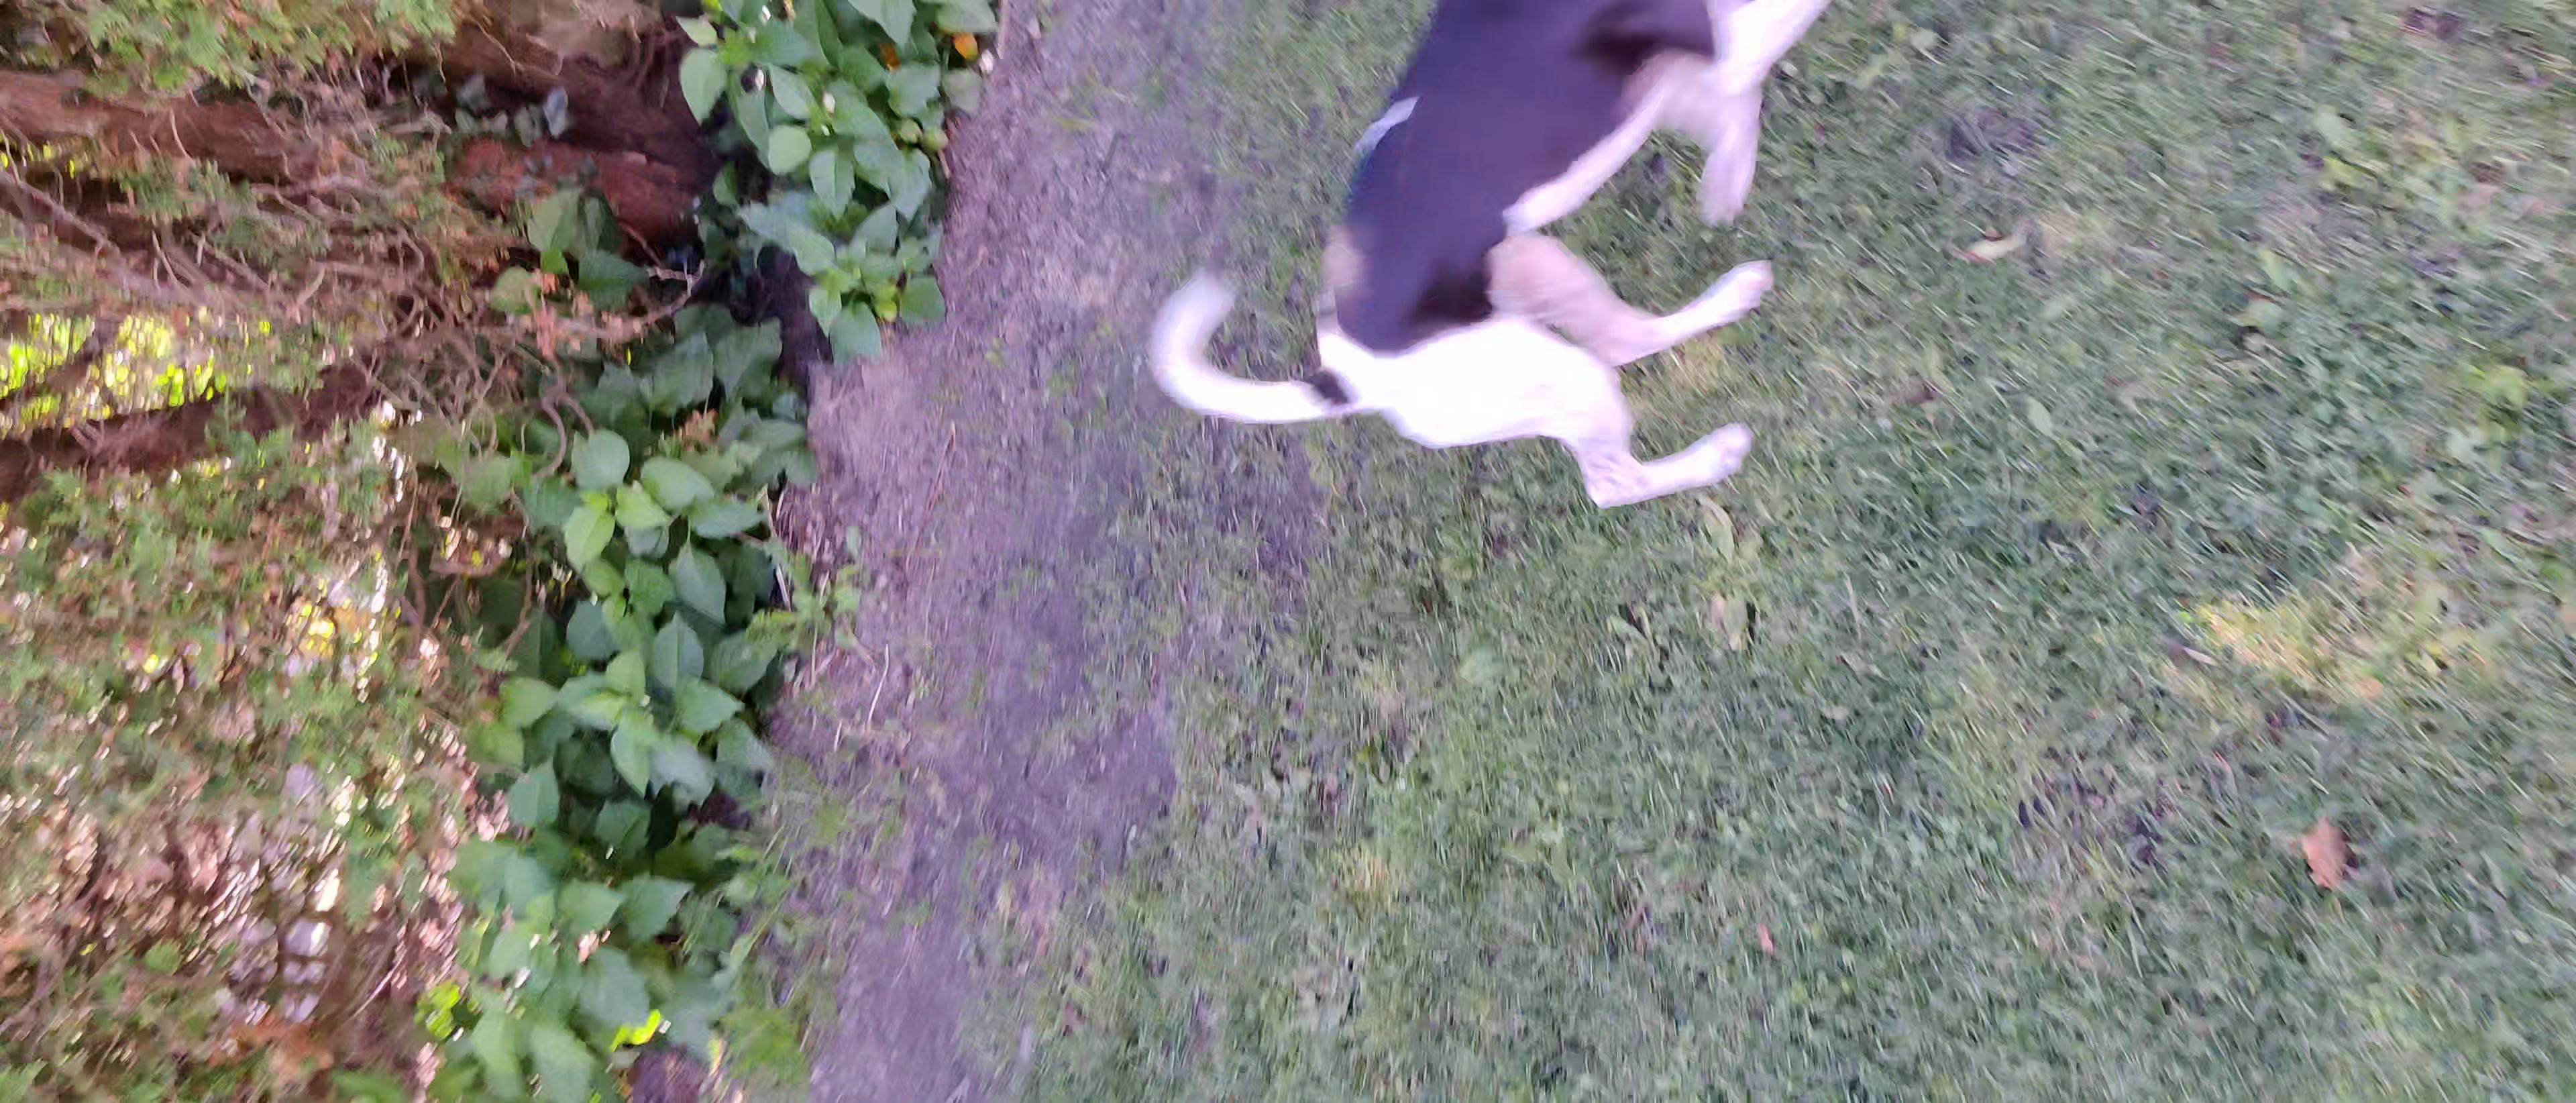Dog: (1138, 0, 1850, 519)
